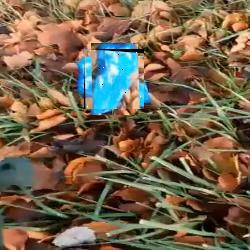plastic: (84, 49, 144, 109)
